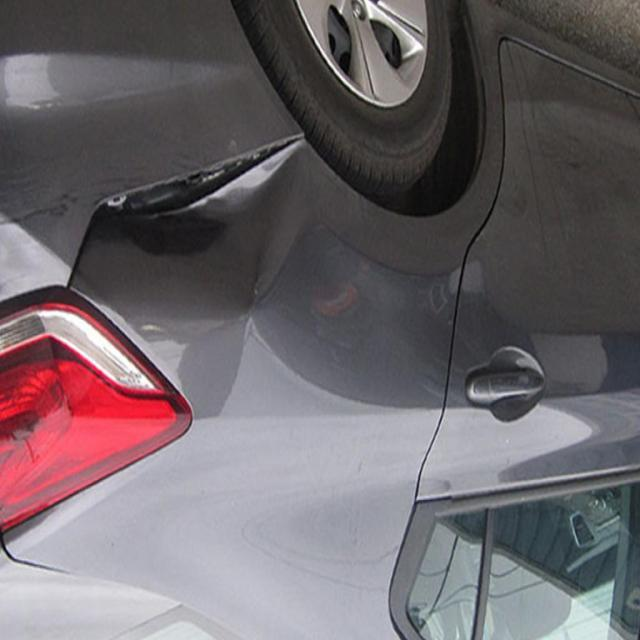dent: (79, 115, 302, 296)
